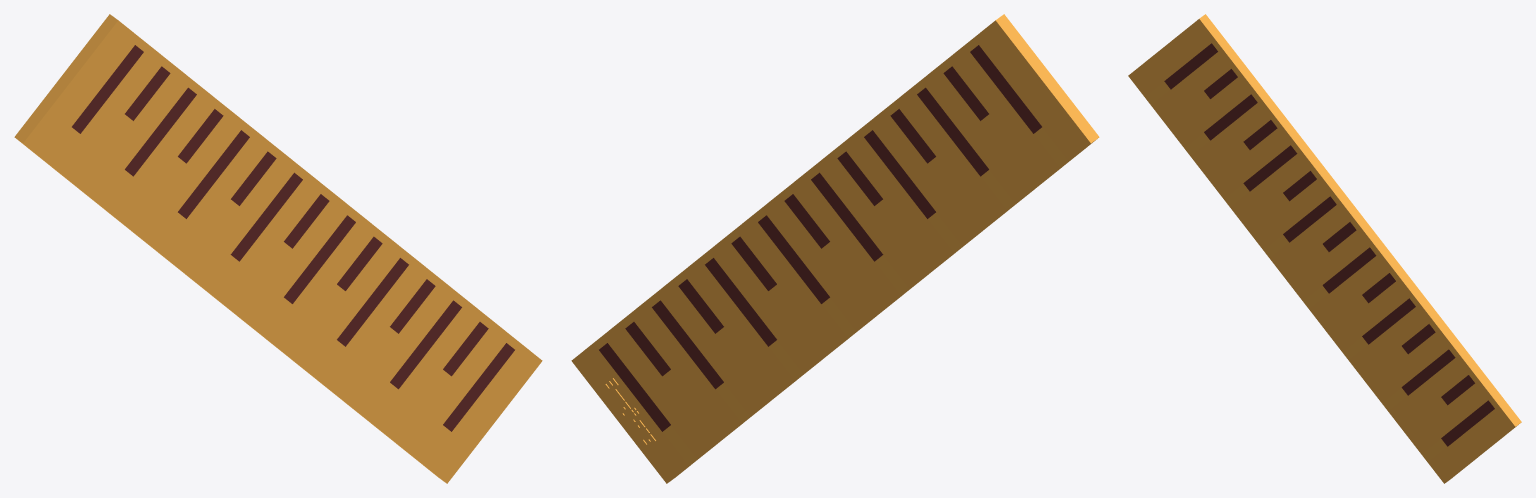
The model's file is straight_ruler.glb.
3 views of the same model, side by side, from view 1: azimuth 30°, elevation 25°; view 2: azimuth 150°, elevation 25°; view 3: azimuth 330°, elevation 25° (orthographic). The views are drawn at different scales.
Visible parts, largest first — view 1: Cube.983; view 2: Cube.983; view 3: Cube.983.
Part boxes in pixels (left/top/right/bottom): Cube.983: left=14, top=14, right=542, bottom=483; Cube.983: left=571, top=14, right=1099, bottom=483; Cube.983: left=1128, top=14, right=1521, bottom=483.
Size of the model in its own units: 2.08 by 2.08 by 0.0651.
Materials: 1 (1 with a texture image).
